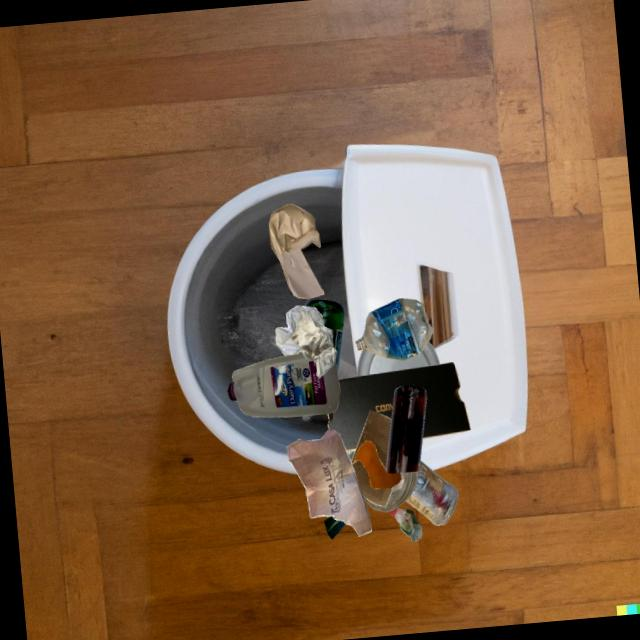biowaste: (352, 440, 401, 489), (323, 516, 345, 539)
cardboard: (327, 362, 470, 449), (351, 410, 393, 507), (346, 448, 356, 461)
glass: (385, 385, 426, 473), (304, 299, 344, 376), (362, 471, 418, 512)
paper: (287, 428, 371, 536), (269, 203, 324, 298), (290, 307, 337, 378), (275, 305, 324, 356)
plastic: (227, 353, 340, 417), (355, 298, 432, 360), (405, 460, 458, 525), (357, 341, 439, 376), (390, 507, 422, 541)
